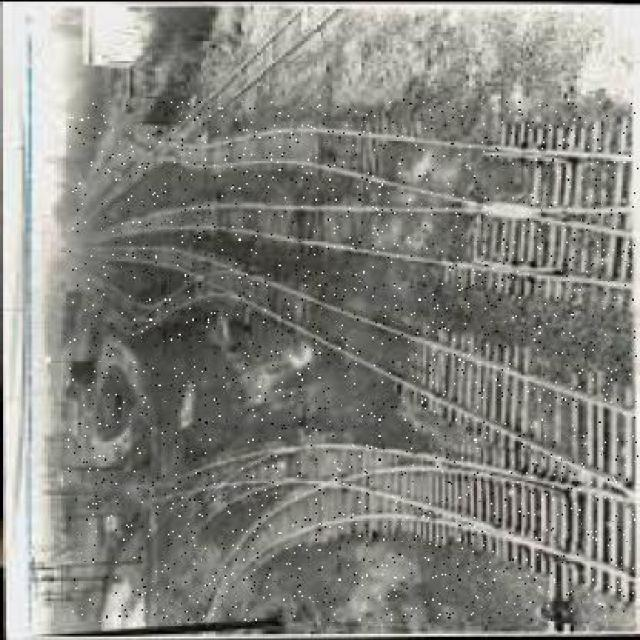rail: (68, 97, 638, 620)
